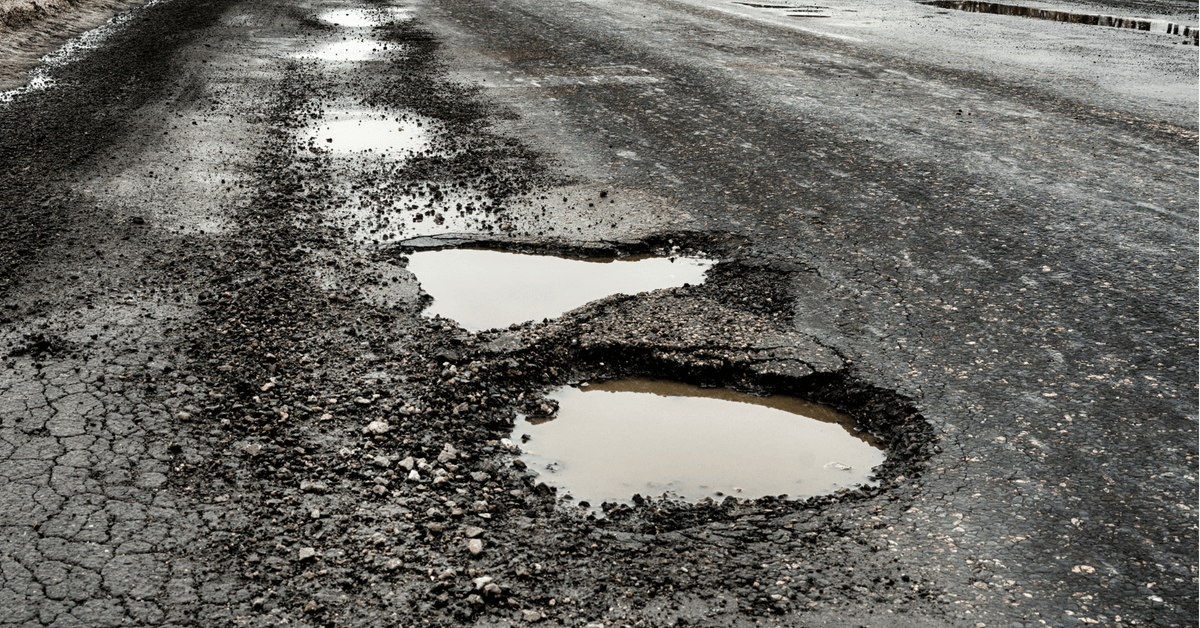pothole: (478, 358, 950, 559), (376, 186, 747, 356), (280, 94, 447, 189), (284, 17, 401, 80)
